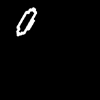chain: (17, 8, 36, 35)
